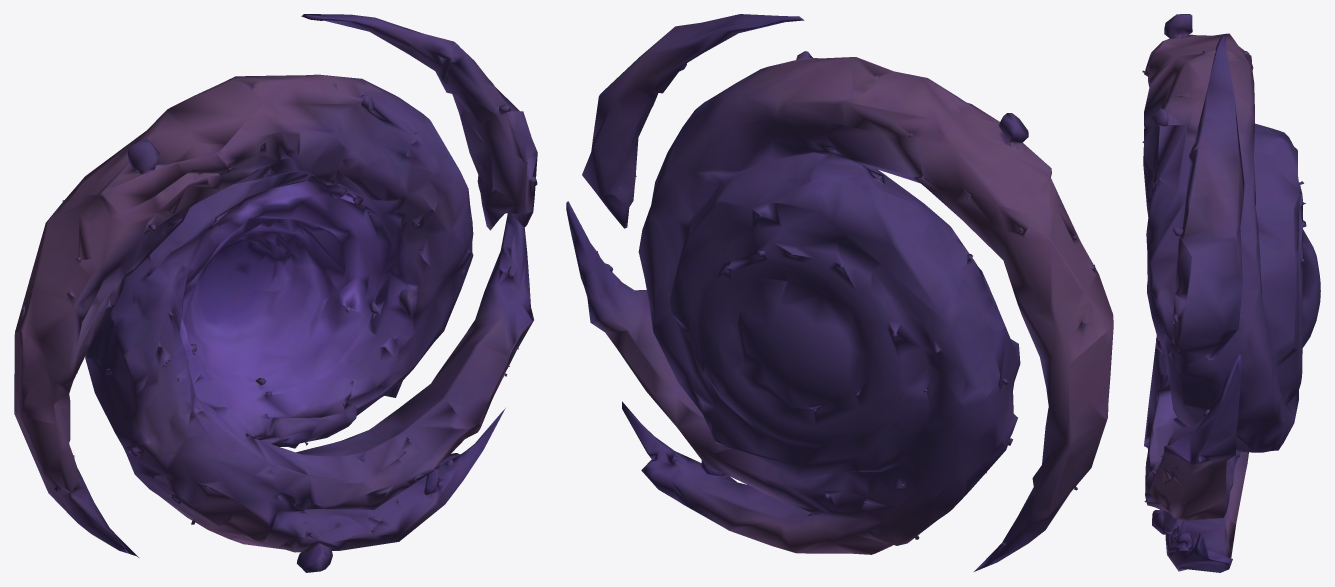
Rendered from dark_c.glb.
The picture shows the model from 3 angles, left to right: view 1: azimuth 30°, elevation 25°; view 2: azimuth 150°, elevation 25°; view 3: azimuth 270°, elevation 25°; orthographic projection. The views are drawn at different scales.
Parts seen in each view (by area): view 1: tripo_node_ce10a6fe-e7d0-488a-a7aa-6cc87f5ccf4b; view 2: tripo_node_ce10a6fe-e7d0-488a-a7aa-6cc87f5ccf4b; view 3: tripo_node_ce10a6fe-e7d0-488a-a7aa-6cc87f5ccf4b.
Part boxes in pixels (bbox=[...]): tripo_node_ce10a6fe-e7d0-488a-a7aa-6cc87f5ccf4b: bbox=[14, 14, 537, 572]; tripo_node_ce10a6fe-e7d0-488a-a7aa-6cc87f5ccf4b: bbox=[566, 14, 1113, 571]; tripo_node_ce10a6fe-e7d0-488a-a7aa-6cc87f5ccf4b: bbox=[1142, 14, 1320, 572].
Size of the model in its own units: 0.9784 by 0.9634 by 0.3068.
Materials: 1 (1 with a texture image).
